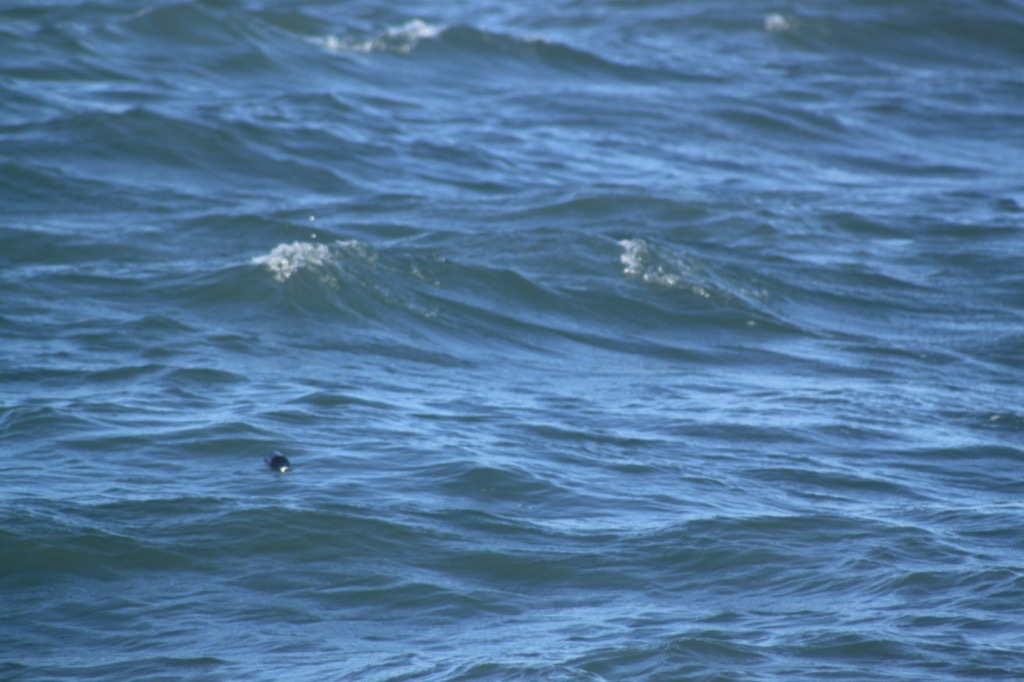plastic: (238, 422, 311, 496)
